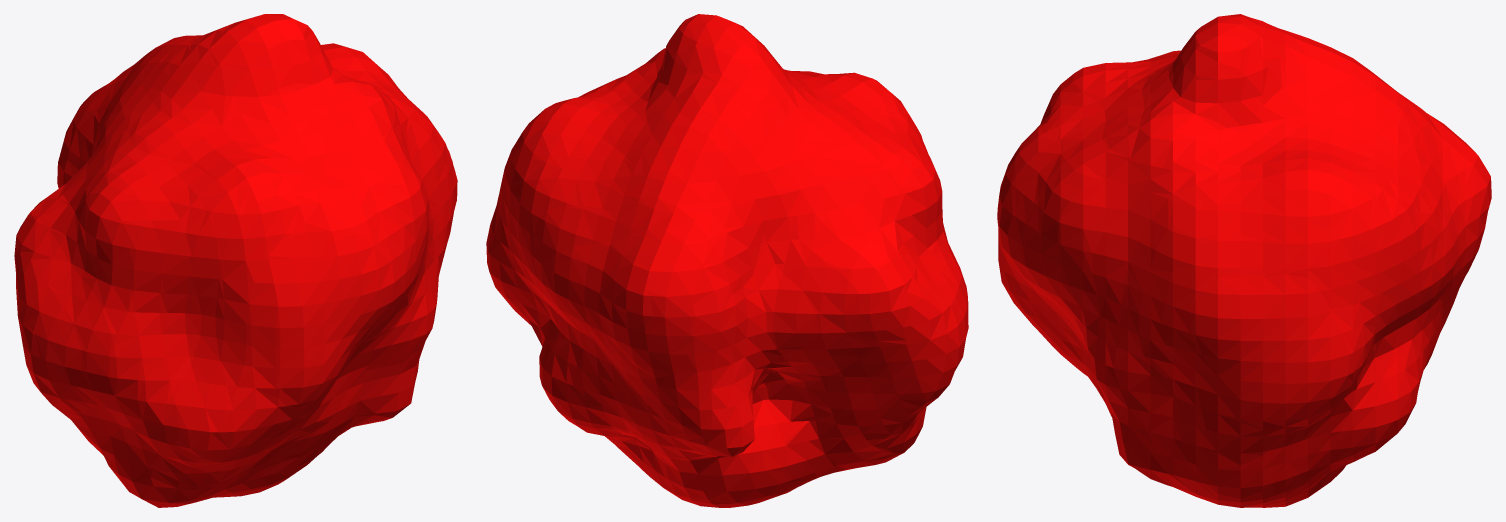
The model's file is mug_coarse.dae.
The picture shows the model from 3 angles, left to right: view 1: azimuth 30°, elevation 25°; view 2: azimuth 150°, elevation 25°; view 3: azimuth 270°, elevation 25°; orthographic projection. The views are drawn at different scales.
Visible parts, largest first — view 1: mug; view 2: mug; view 3: mug.
Part boxes in pixels (x1=…): mug: x1=14, y1=14, x2=457, y2=507; mug: x1=486, y1=14, x2=968, y2=507; mug: x1=997, y1=14, x2=1491, y2=507.
Bounding box in the file's own units: 43.92 × 44.82 × 41.8.
